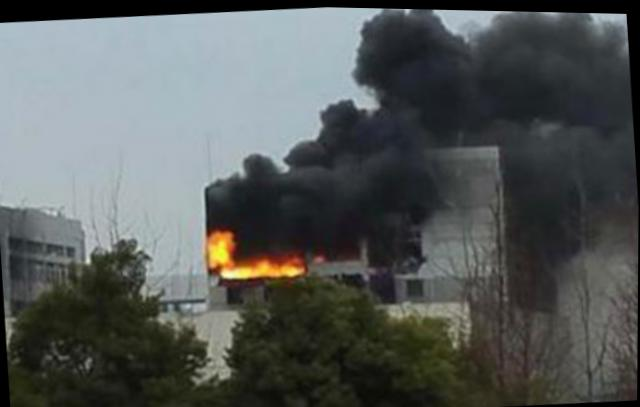fire: (224, 250, 306, 277), (207, 225, 239, 265)
